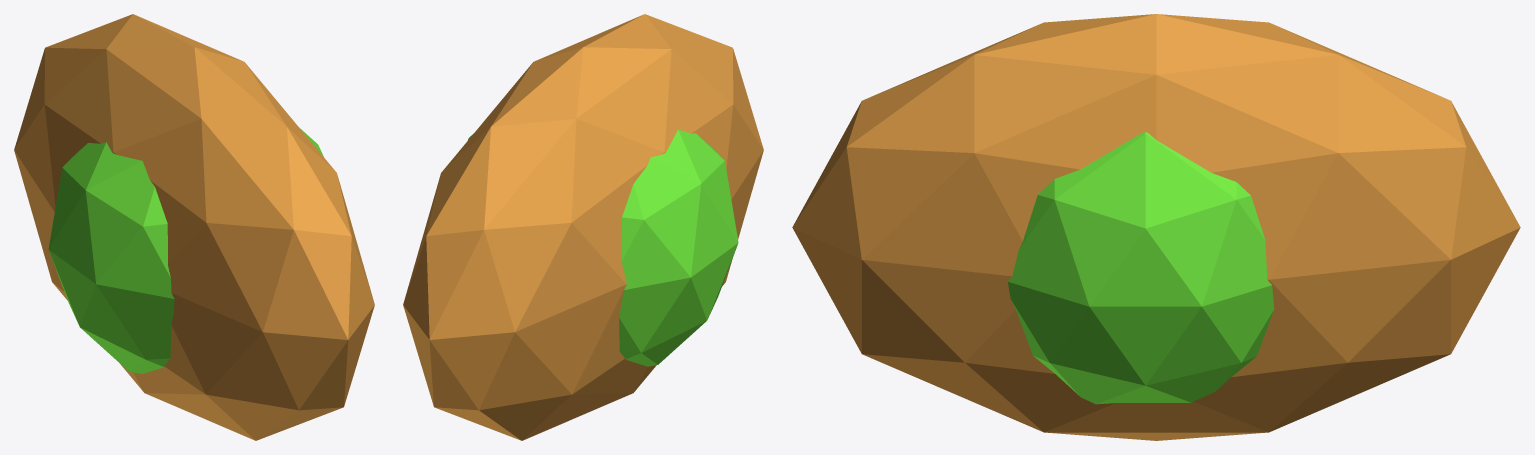
Rendered from features_one.fbx_Eye.fbx.
3 views of the same model, side by side, from view 1: azimuth 30°, elevation 25°; view 2: azimuth 150°, elevation 25°; view 3: azimuth 270°, elevation 25° (orthographic). The views are drawn at different scales.
Parts seen in each view (by area): view 1: Eye; view 2: Eye; view 3: Eye.
Part boxes in pixels (x1=…): Eye: x1=14, y1=14, x2=374, y2=440; Eye: x1=403, y1=14, x2=763, y2=440; Eye: x1=792, y1=14, x2=1520, y2=440.
Bounding box in the file's own units: 95.11 × 129 × 200.
